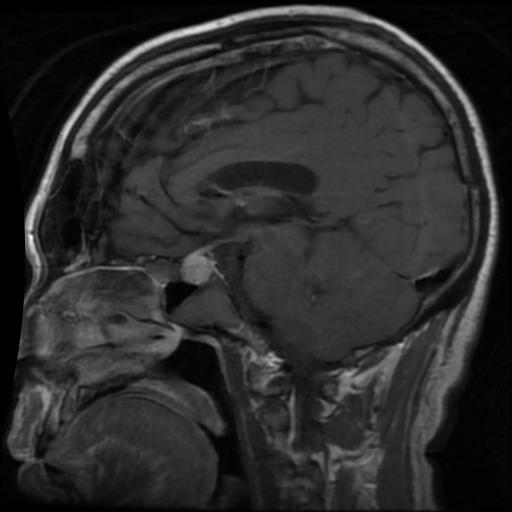Pituirity_tumour: (178, 249, 217, 285)
